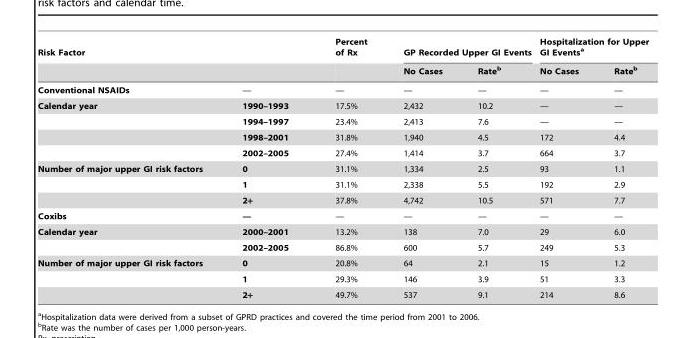table: (37, 37, 648, 299)
table column: (37, 37, 221, 299), (221, 37, 311, 299), (384, 37, 459, 299), (459, 37, 534, 299), (311, 37, 384, 299), (534, 37, 595, 299), (595, 37, 648, 299)
table column header: (37, 37, 648, 80)
table row: (37, 37, 648, 60), (37, 60, 648, 80), (37, 80, 648, 97), (37, 191, 648, 208), (37, 97, 648, 113), (37, 113, 648, 129), (37, 129, 648, 145), (37, 160, 648, 176), (37, 223, 648, 239), (37, 239, 648, 255), (37, 255, 648, 271), (37, 145, 648, 160), (37, 176, 648, 191), (37, 208, 648, 223), (37, 271, 648, 285), (37, 285, 648, 299)
table spanning cell: (37, 97, 221, 160), (37, 160, 221, 208), (37, 255, 221, 299), (37, 37, 311, 60), (37, 223, 221, 255), (384, 37, 534, 60), (311, 37, 384, 80), (534, 37, 648, 60)
